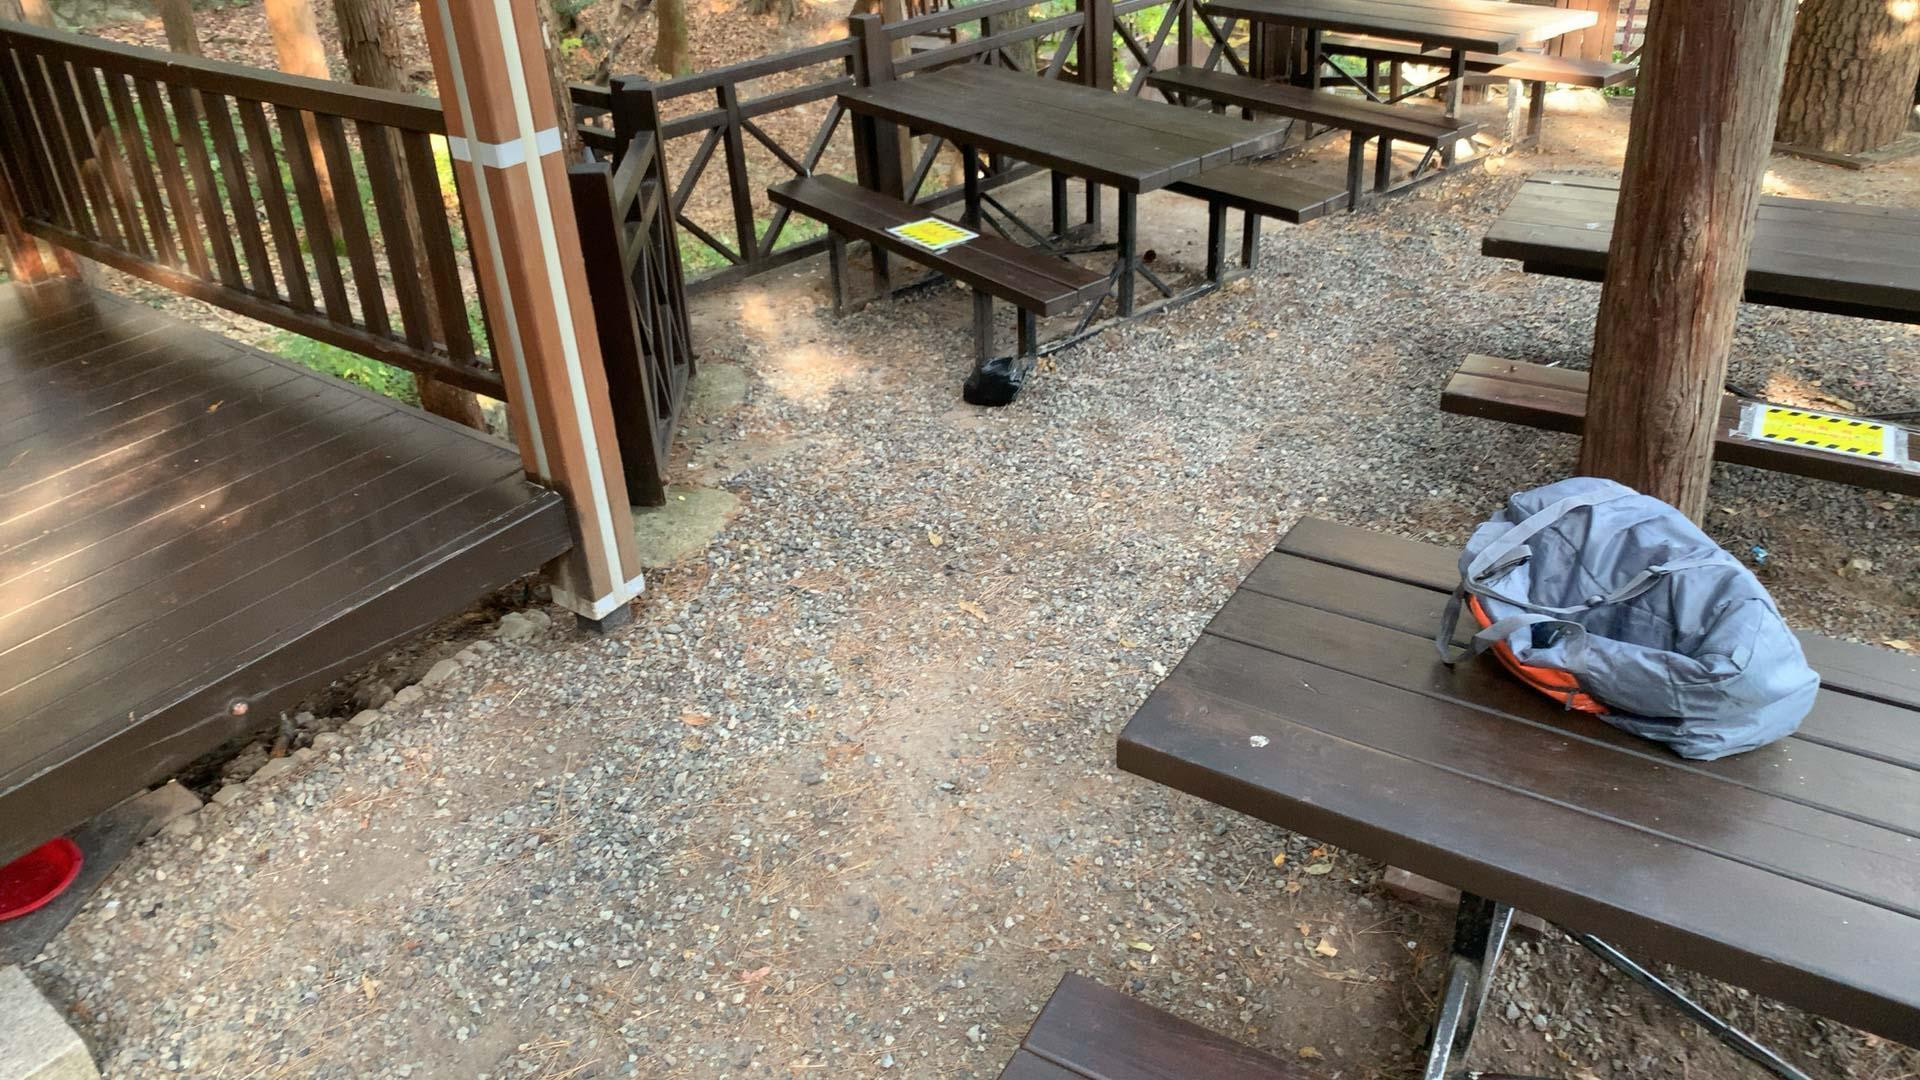black_bag: (955, 349, 1029, 413)
